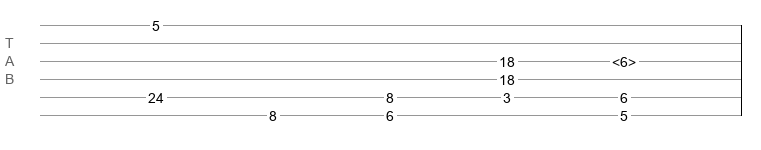18: (499, 54, 515, 64), (499, 72, 515, 82)
24: (148, 90, 164, 100)
3: (503, 90, 511, 100)
5: (152, 18, 160, 28), (620, 108, 628, 118)
6: (386, 108, 394, 118), (620, 90, 628, 100)
8: (269, 108, 277, 118), (386, 90, 394, 100)
harmonic: (612, 54, 636, 64)
